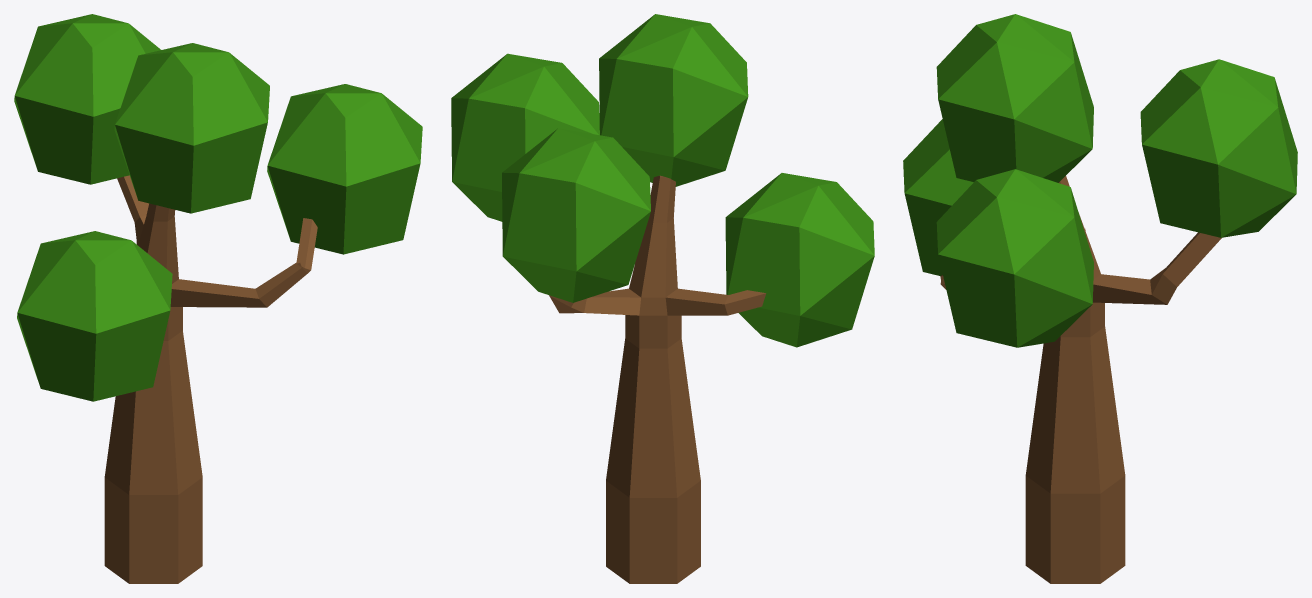
File: tree.fbx
3 renders of one model, left to right at view 1: azimuth 30°, elevation 25°; view 2: azimuth 150°, elevation 25°; view 3: azimuth 270°, elevation 25°, orthographic. The views are drawn at different scales.
Visible parts, largest first — view 1: Cylinder, Sphere, Sphere.003, Sphere.001, Sphere.002; view 2: Cylinder, Sphere.002, Sphere.003, Sphere, Sphere.001; view 3: Cylinder, Sphere.002, Sphere.001, Sphere, Sphere.003.
Boxes of the visible parts, box(x1,y1,x2,y2) form: Cylinder: box(104, 175, 317, 583); Sphere: box(114, 43, 269, 213); Sphere.003: box(17, 231, 172, 401); Sphere.001: box(267, 84, 422, 254); Sphere.002: box(14, 14, 160, 184); Cylinder: box(549, 175, 766, 583); Sphere.002: box(502, 128, 650, 302); Sphere.003: box(725, 173, 874, 347); Sphere: box(599, 14, 748, 186); Sphere.001: box(451, 53, 599, 221); Cylinder: box(940, 176, 1221, 583); Sphere.002: box(1140, 59, 1297, 237); Sphere.001: box(936, 169, 1093, 347); Sphere: box(936, 14, 1093, 182); Sphere.003: box(903, 119, 973, 276).
Bounding box in the file's own units: 544 × 664 × 435.
